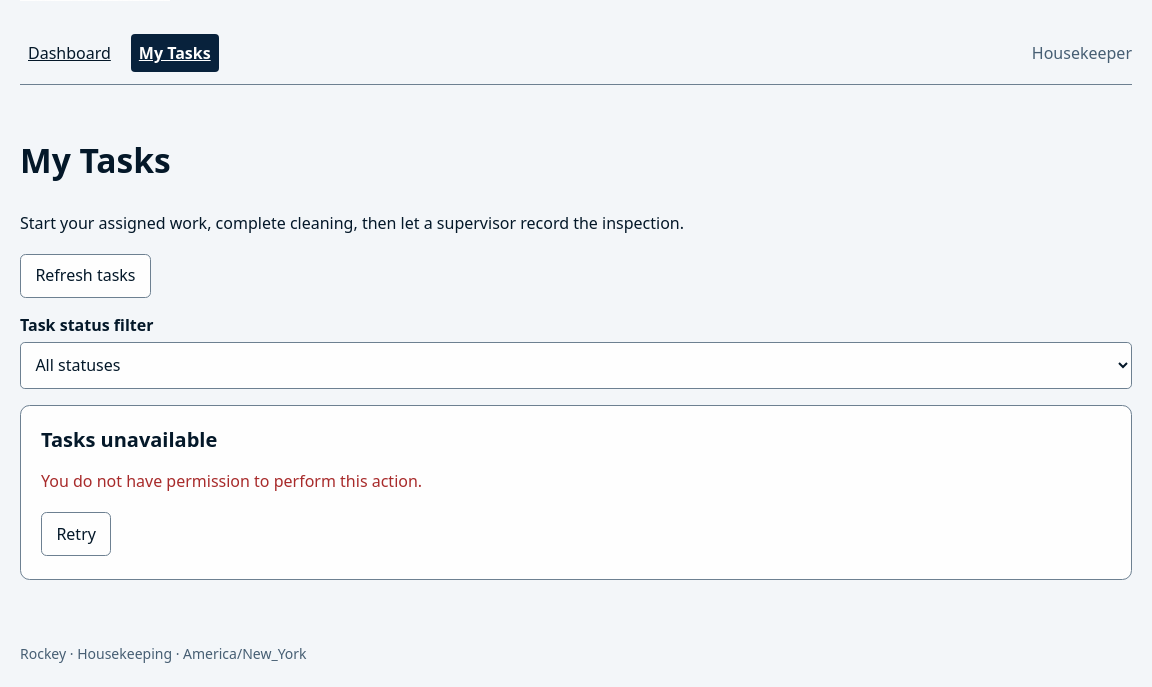
Test: Loading, errors, refresh and focus › read error 403 is recoverable without exposing previous data
The image size is (1152, 687).
(page scrolled)
expect the message "You do not have permission to perform this action." is shown: met, box 41,470 -> 422,492
expect the text "Clean 101" is not shown: met
Click the button "Retry": (76, 534) 41,512 -> 111,556
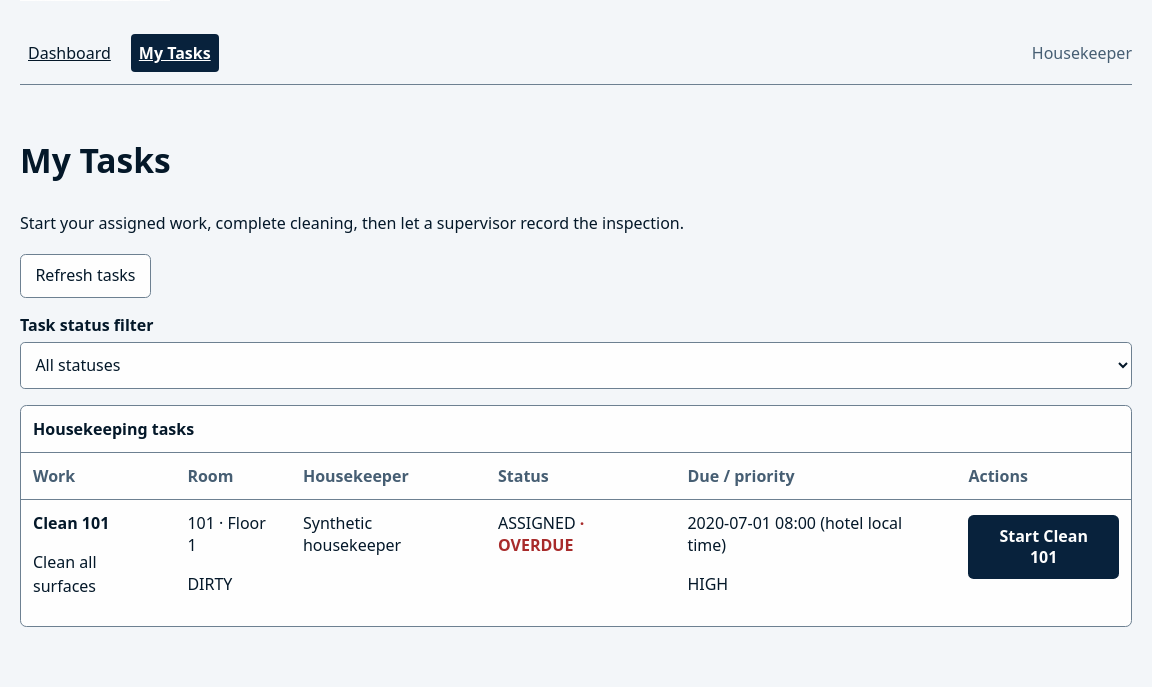
expect the text "Clean 101" is shown: met, box 33,512 -> 109,534
